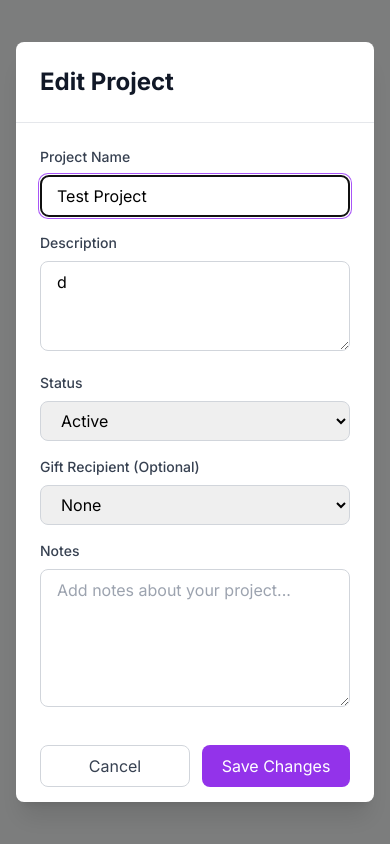
it: EditProjectModal error handling › clears a stale error banner when the user retries
Click the button "Save Changes".
click(276, 766)  # box [202,745,350,787]
(page scrolled)
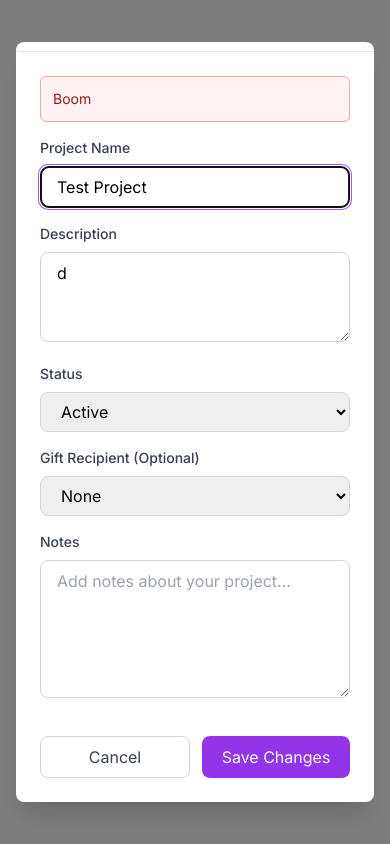
Expected: the text "Boom" is shown, [40,76,350,122]
Click the button "Save Changes".
click(276, 757)  # box [202,736,350,778]
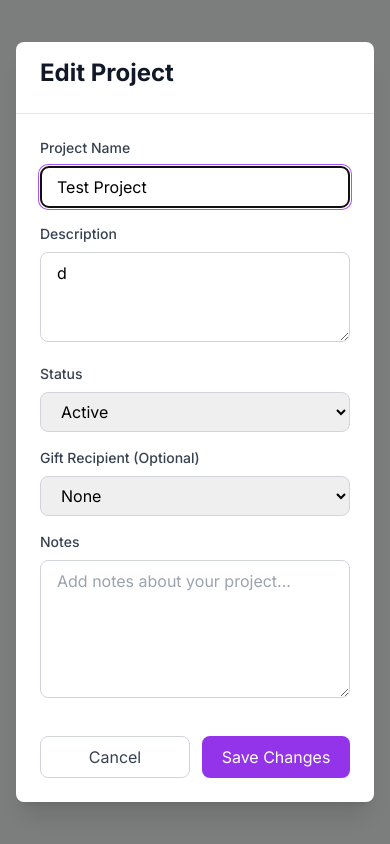
Expected: the text "Boom" is gone
